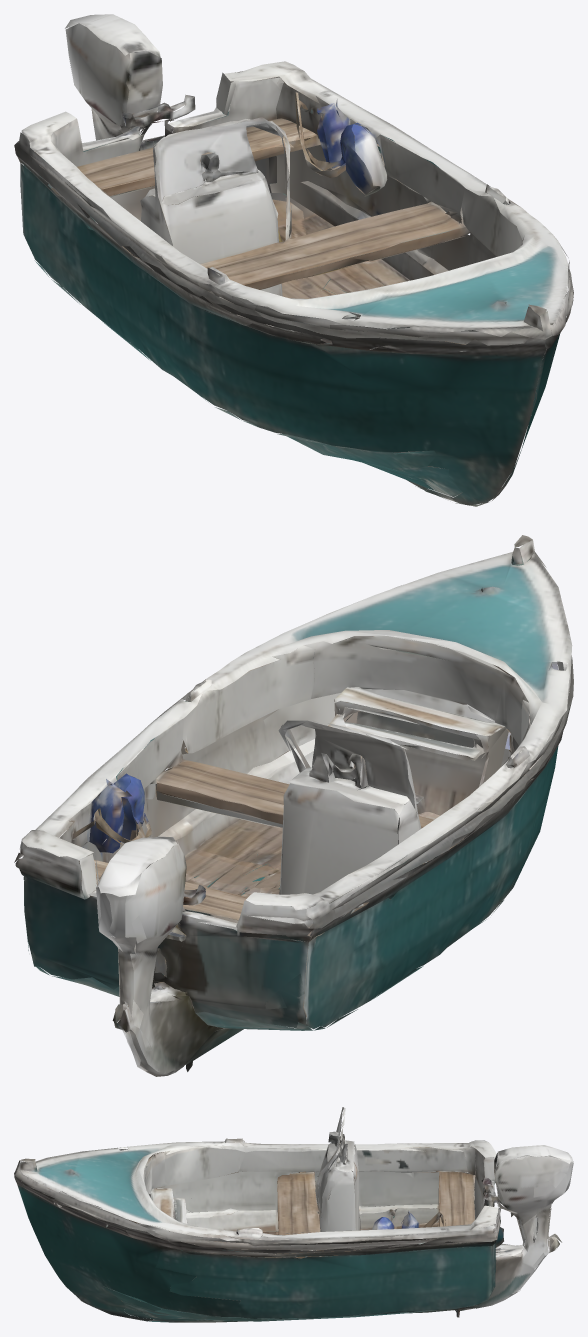
The model's file is tender.glb.
3 views of the same model, one above another, from view 1: azimuth 30°, elevation 25°; view 2: azimuth 150°, elevation 25°; view 3: azimuth 270°, elevation 25° (orthographic). The views are drawn at different scales.
Parts seen in each view (by area): view 1: Lux3D tender; view 2: Lux3D tender; view 3: Lux3D tender.
Part boxes in pixels (x1=…): Lux3D tender: x1=14, y1=14, x2=573, y2=506; Lux3D tender: x1=14, y1=535, x2=573, y2=1076; Lux3D tender: x1=14, y1=1107, x2=573, y2=1322.
Size of the model in its own units: 1.19 by 1 by 2.81.
1 material, 1 textured.
